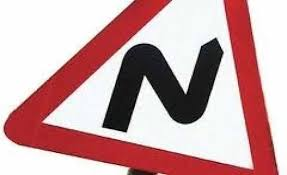Double_bend_right: (5, 1, 286, 175)
